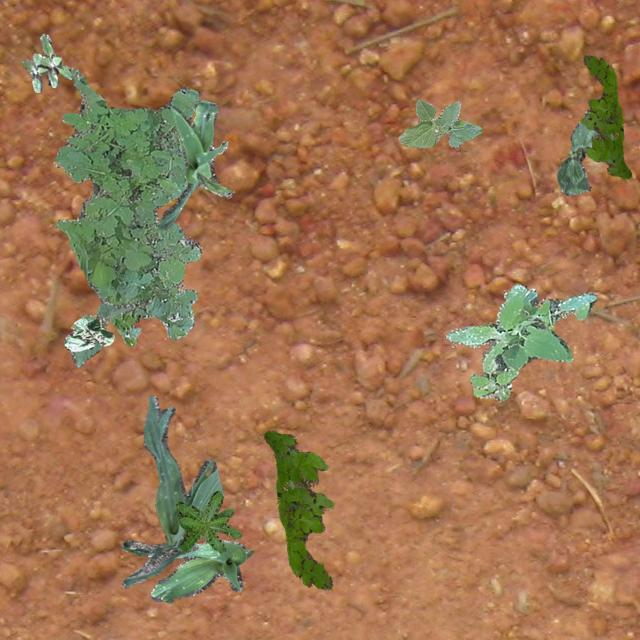crop: (120, 393, 222, 588), (156, 99, 234, 228), (118, 538, 252, 602), (70, 300, 134, 366), (398, 98, 480, 146), (556, 110, 598, 194), (62, 316, 112, 351)
weed: (54, 66, 202, 344), (444, 284, 596, 401), (264, 429, 332, 588), (580, 54, 630, 178), (176, 489, 240, 552), (22, 33, 72, 90)
